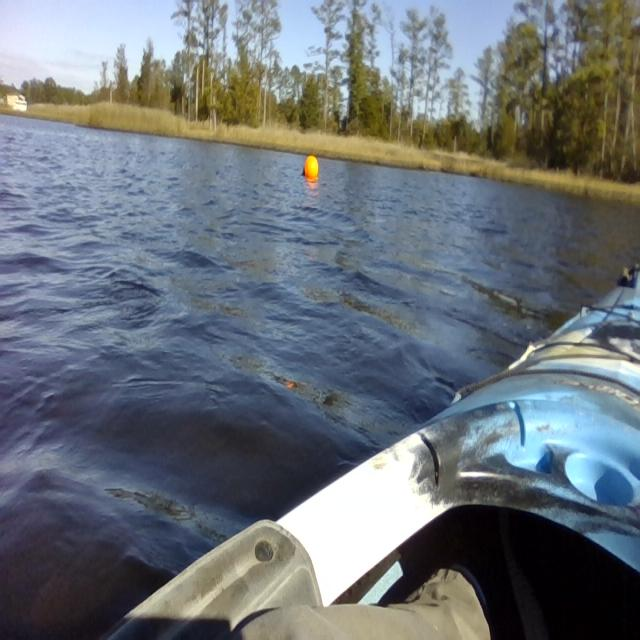Buoy: (302, 152, 320, 182)
